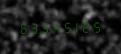five: (61, 19, 71, 33), (94, 19, 104, 33)
four: (50, 20, 60, 34)
one: (72, 19, 82, 33)
six: (17, 20, 27, 34)
three: (28, 20, 38, 34), (39, 20, 49, 34)
two: (83, 19, 93, 33)
